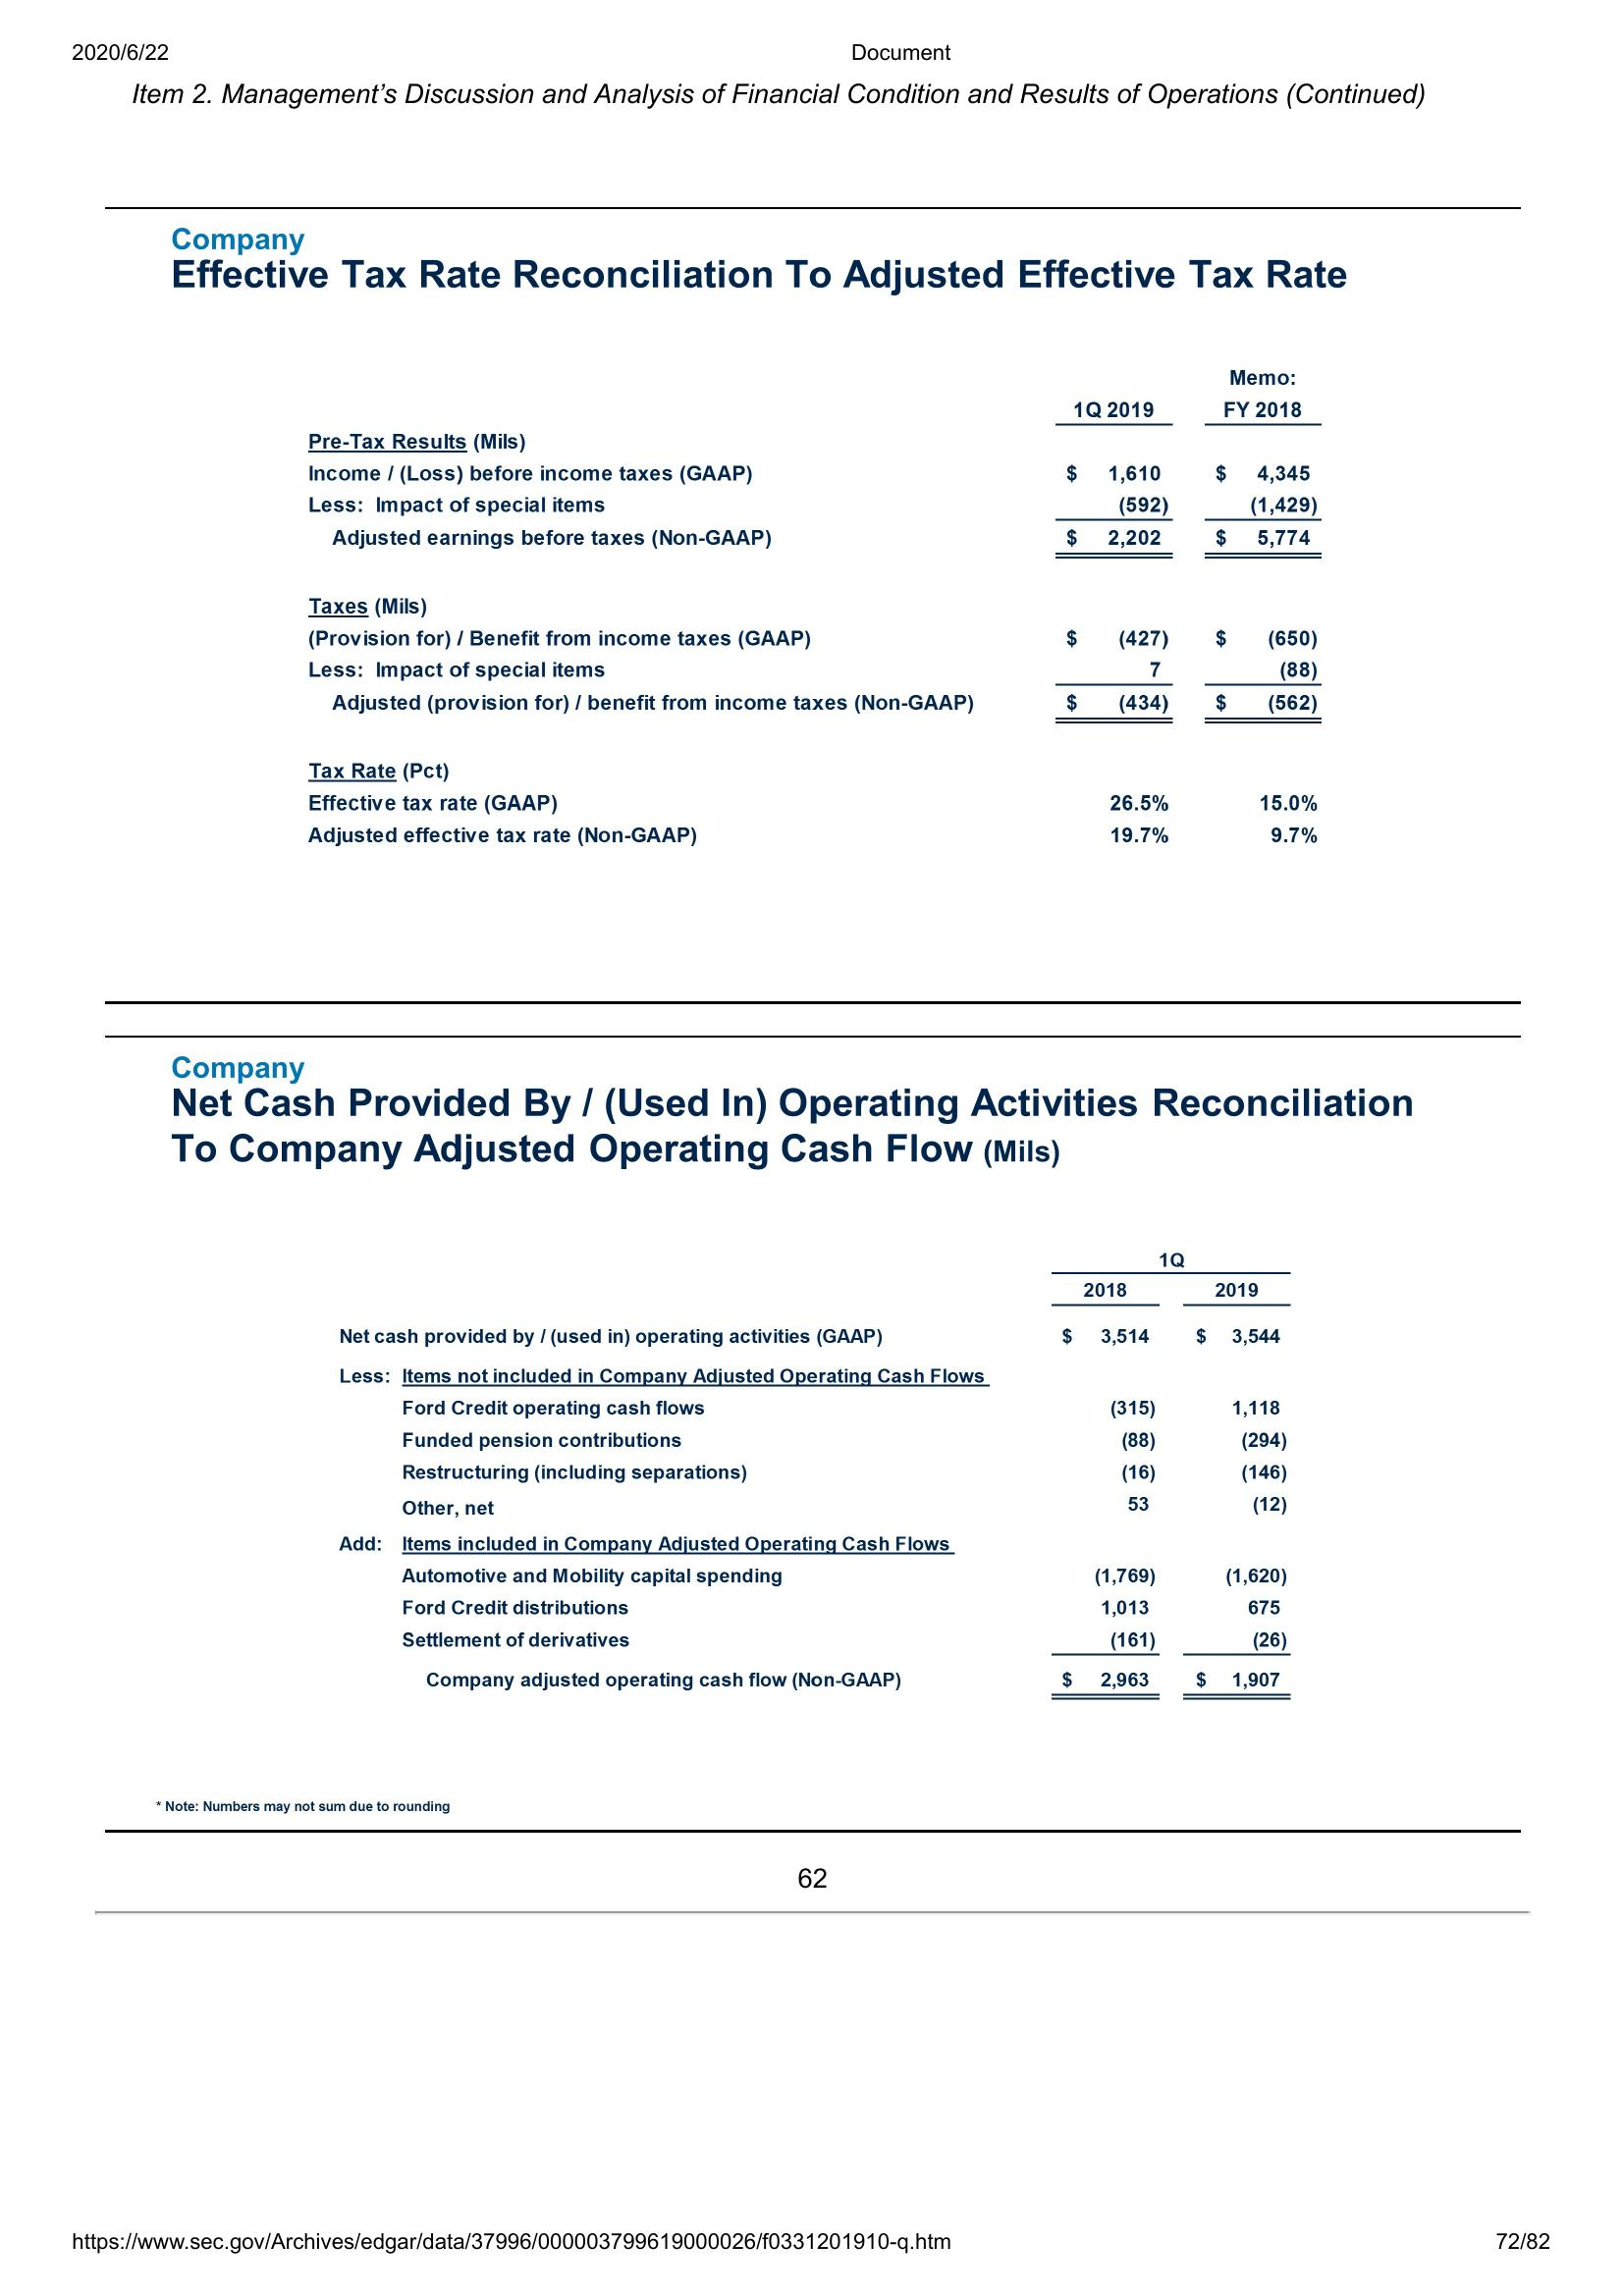table: (300, 363, 1328, 853), (328, 1248, 1295, 1704)
